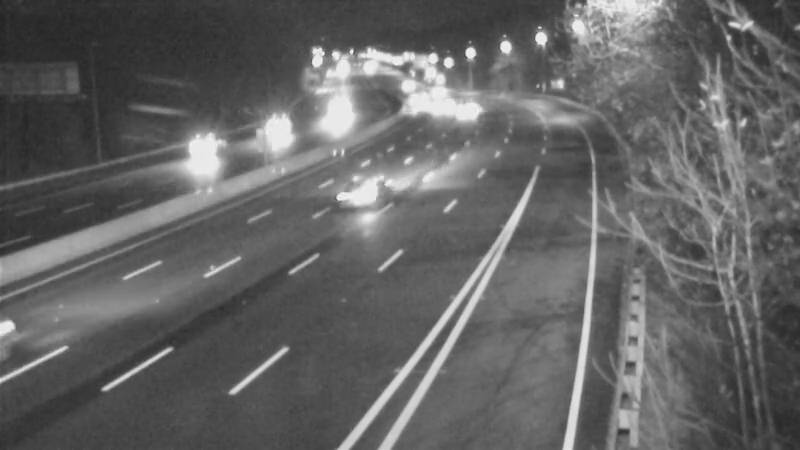vehicle: (1, 278, 88, 388), (331, 145, 411, 225), (180, 115, 260, 195), (406, 77, 456, 127), (435, 84, 485, 134), (246, 112, 296, 162), (309, 83, 359, 133)
